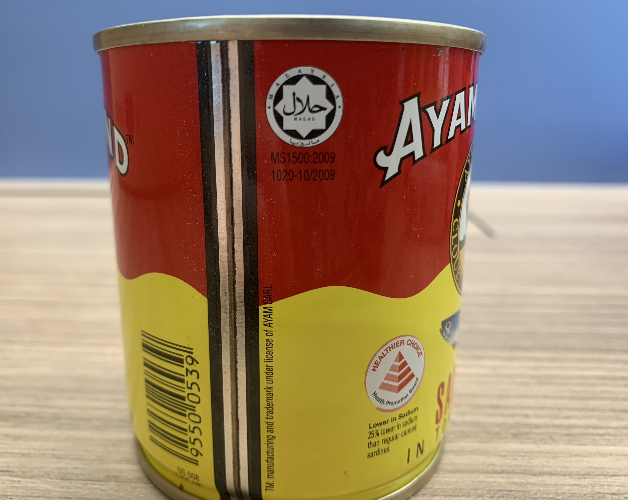halal: (274, 80, 335, 132)
